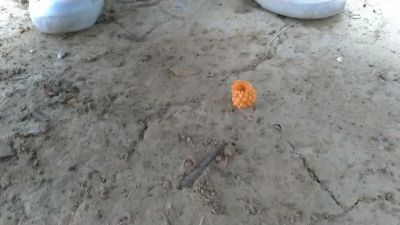eggs: (233, 80, 256, 109)
